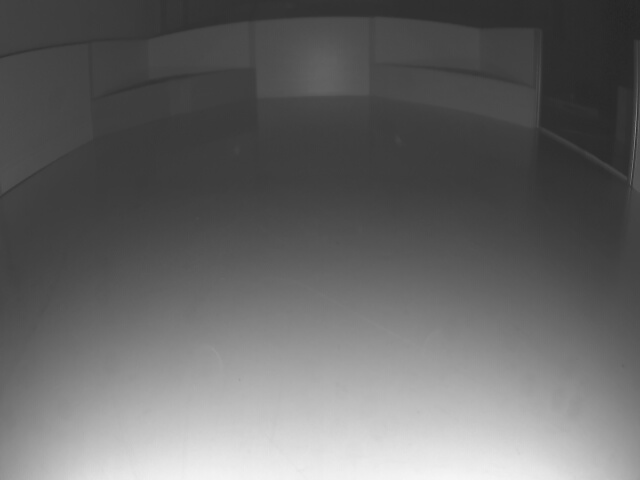Point: (93, 69, 256, 140), (373, 64, 534, 130)
